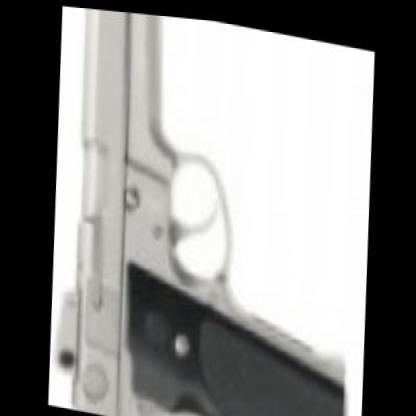pistol: (41, 3, 361, 414)
